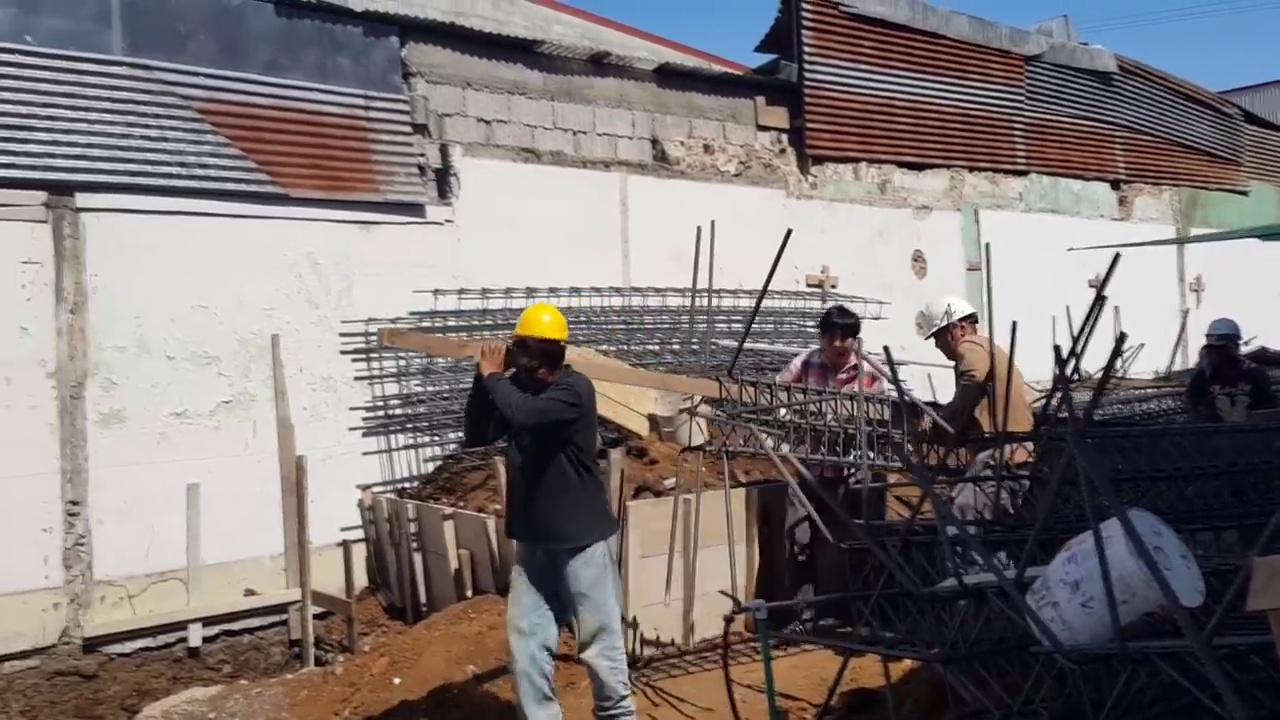helmet: (505, 299, 576, 347), (915, 296, 982, 344), (1204, 317, 1243, 341)
helmet-off: (821, 308, 869, 372)
helmet-on: (502, 308, 569, 390), (914, 299, 988, 363), (1203, 316, 1243, 366)
person: (463, 298, 637, 719), (792, 296, 904, 532), (907, 300, 1012, 497), (1185, 317, 1265, 425)
